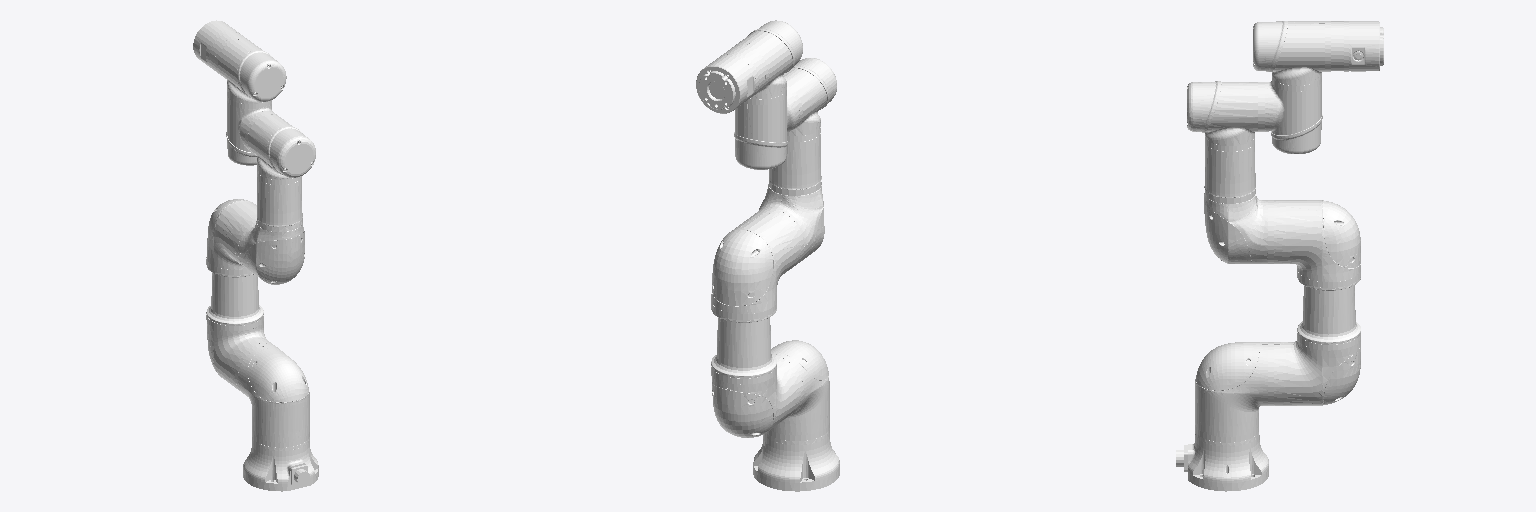
URDF robot description (s3_60_eco_2024):
<?xml version="1.0" encoding="utf-8"?>
<!-- Converted from the original ROS 1 package 'S3-60 Eco 2024' for ROS 2.
     Changes: robot name -> s3_60_eco_2024, package:// URIs updated,
     joint limits taken from the Codroid controller config (base.yaml / S3-60-PRO.yaml).
     Original URDF was created by SolidWorks to URDF Exporter! Originally created by Stephen Brawner (brawner@gmail.com) 
     Commit Version: 1.6.0-1-g15f4949  Build Version: 1.6.7594.29634
     For more information, please see http://wiki.ros.org/sw_urdf_exporter -->
<robot
  name="s3_60_eco_2024">
  <link
    name="base_link">
    <inertial>
      <origin
        xyz="0 -0 0"
        rpy="0 0 0" />
      <mass
        value="0.78541" />
      <inertia
        ixx="0.0010933"
        ixy="3.2853E-08"
        ixz="-1.7363E-07"
        iyy="0.0010241"
        iyz="1.1425E-06"
        izz="0.0014616" />
    </inertial>
    <visual>
      <origin
        xyz="0 0 0"
        rpy="0 0 0" />
      <geometry>
        <mesh
          filename="package://s3_60_eco_2024/meshes/base_link.STL" />
      </geometry>
      <material
        name="">
        <color
          rgba="1 1 1 1" />
      </material>
    </visual>
    <collision>
      <origin
        xyz="0 0 0"
        rpy="0 0 0" />
      <geometry>
        <mesh
          filename="package://s3_60_eco_2024/meshes/base_link.STL" />
      </geometry>
    </collision>
  </link>
  <link
    name="link1">
    <inertial>
      <origin
        xyz="0 0.01736 -0.03468"
        rpy="0 0 0" />
      <mass
        value="2.68" />
      <inertia
        ixx="0.0063062"
        ixy="1E-13"
        ixz="4E-14"
        iyy="0.0063062"
        iyz="-5.47E-12"
        izz="3.8604E-09" />
    </inertial>
    <visual>
      <origin
        xyz="0 0 0"
        rpy="0 0 0" />
      <geometry>
        <mesh
          filename="package://s3_60_eco_2024/meshes/link1.STL" />
      </geometry>
      <material
        name="">
        <color
          rgba="1 1 1 1" />
      </material>
    </visual>
    <collision>
      <origin
        xyz="0 0 0"
        rpy="0 0 0" />
      <geometry>
        <mesh
          filename="package://s3_60_eco_2024/meshes/link1.STL" />
      </geometry>
    </collision>
  </link>
  <joint
    name="joint1"
    type="revolute">
    <origin
      xyz="0 0 0.1612"
      rpy="0 0 0" />
    <parent
      link="base_link" />
    <child
      link="link1" />
    <axis
      xyz="0 0 -1" />
    <limit
      lower="-3.490659"
      upper="3.490659"
      effort="80"
      velocity="2.617994" />
  </joint>
  <link
    name="link2">
    <inertial>
      <origin
        xyz="0.164358816 -0.003811846 -0.036830158"
        rpy="0 0 0" />
      <mass
        value="4.91000729" />
      <inertia
        ixx="0.03174634313"
        ixy="-0.0133850739"
        ixz="0.02099061606"
        iyy="0.04209164764"
        iyz="0.01439168907"
        izz="0.0286995883" />
    </inertial>
    <visual>
      <origin
        xyz="0 0 0"
        rpy="0 0 0" />
      <geometry>
        <mesh
          filename="package://s3_60_eco_2024/meshes/link2.STL" />
      </geometry>
      <material
        name="">
        <color
          rgba="1 1 1 1" />
      </material>
    </visual>
    <collision>
      <origin
        xyz="0 0 0"
        rpy="0 0 0" />
      <geometry>
        <mesh
          filename="package://s3_60_eco_2024/meshes/link2.STL" />
      </geometry>
    </collision>
  </link>
  <joint
    name="joint2"
    type="revolute">
    <origin
      xyz="0 0.1625 0"
      rpy="-1.5708 -1.5708 -0" />
    <parent
      link="link1" />
    <child
      link="link2" />
    <axis
      xyz="0 0 1" />
    <limit
      lower="-3.490659"
      upper="3.490659"
      effort="100"
      velocity="2.617994" />
  </joint>
  <link
    name="link3">
    <inertial>
      <origin
        xyz="0.14259 0.0041909 0.019663"
        rpy="0 0 0" />
      <mass
        value="2.8189" />
      <inertia
        ixx="0.010113"
        ixy="-0.004051"
        ixz="0.013325"
        iyy="0.028438"
        iyz="0.0028144"
        izz="0.020036" />
    </inertial>
    <visual>
      <origin
        xyz="0 0 0"
        rpy="0 0 0" />
      <geometry>
        <mesh
          filename="package://s3_60_eco_2024/meshes/link3.STL" />
      </geometry>
      <material
        name="">
        <color
          rgba="1 1 1 1" />
      </material>
    </visual>
    <collision>
      <origin
        xyz="0 0 0"
        rpy="0 0 0" />
      <geometry>
        <mesh
          filename="package://s3_60_eco_2024/meshes/link3.STL" />
      </geometry>
    </collision>
  </link>
  <joint
    name="joint3"
    type="revolute">
    <origin
      xyz="0.249 0 -0.158"
      rpy="0 0 0" />
    <parent
      link="link2" />
    <child
      link="link3" />
    <axis
      xyz="0 0 1" />
    <limit
      lower="-2.844887"
      upper="2.844887"
      effort="80"
      velocity="2.617994" />
  </joint>
  <link
    name="link4">
    <inertial>
      <origin
        xyz="0.003938771 0.011270604 0.011220216"
        rpy="0 0 0" />
      <mass
        value="1.6405" />
      <inertia
        ixx="0.004198595"
        ixy="-0.001233426"
        ixz="-0.00171508"
        iyy="0.00383027"
        iyz="-0.00199017"
        izz="0.002494199" />
    </inertial>
    <visual>
      <origin
        xyz="0 0 0"
        rpy="0 0 0" />
      <geometry>
        <mesh
          filename="package://s3_60_eco_2024/meshes/link4.STL" />
      </geometry>
      <material
        name="">
        <color
          rgba="1 1 1 1" />
      </material>
    </visual>
    <collision>
      <origin
        xyz="0 0 0"
        rpy="0 0 0" />
      <geometry>
        <mesh
          filename="package://s3_60_eco_2024/meshes/link4.STL" />
      </geometry>
    </collision>
  </link>
  <joint
    name="joint4"
    type="revolute">
    <origin
      xyz="0.2208 0 0.106"
      rpy="3.1416 0 1.5708" />
    <parent
      link="link3" />
    <child
      link="link4" />
    <axis
      xyz="0 0 1" />
    <limit
      lower="-3.490659"
      upper="3.490659"
      effort="50"
      velocity="3.141593" />
  </joint>
  <link
    name="link5">
    <inertial>
      <origin
        xyz="-0.006333829 -0.011334075 0.005137465"
        rpy="0 0 0" />
      <mass
        value="1.64157902" />
      <inertia
        ixx="0.00011746"
        ixy="0.000351853"
        ixz="-0.000369981"
        iyy="0.0022811"
        iyz="5.8655E-05"
        izz="0.002275203" />
    </inertial>
    <visual>
      <origin
        xyz="0 0 0"
        rpy="0 0 0" />
      <geometry>
        <mesh
          filename="package://s3_60_eco_2024/meshes/link5.STL" />
      </geometry>
      <material
        name="">
        <color
          rgba="1 1 1 1" />
      </material>
    </visual>
    <collision>
      <origin
        xyz="0 0 0"
        rpy="0 0 0" />
      <geometry>
        <mesh
          filename="package://s3_60_eco_2024/meshes/link5.STL" />
      </geometry>
    </collision>
  </link>
  <joint
    name="joint5"
    type="revolute">
    <origin
      xyz="0 0.106 0"
      rpy="1.5708 0 0" />
    <parent
      link="link4" />
    <child
      link="link5" />
    <axis
      xyz="0 0 -1" />
    <limit
      lower="-3.490659"
      upper="3.490659"
      effort="50"
      velocity="3.141593" />
  </joint>
  <link
    name="link6">
    <inertial>
      <origin
        xyz="0.010096671 -0.013004453 -0.030448264"
        rpy="0 0 0" />
      <mass
        value="0.53289427" />
      <inertia
        ixx="0.000181326"
        ixy="0.000407975"
        ixz="-3.9175E-05"
        iyy="0.000928056"
        iyz="1.7252E-05"
        izz="0.001106067" />
    </inertial>
    <visual>
      <origin
        xyz="0 0 0"
        rpy="0 0 0" />
      <geometry>
        <mesh
          filename="package://s3_60_eco_2024/meshes/link6.STL" />
      </geometry>
      <material
        name="">
        <color
          rgba="1 1 1 1" />
      </material>
    </visual>
    <collision>
      <origin
        xyz="0 0 0"
        rpy="0 0 0" />
      <geometry>
        <mesh
          filename="package://s3_60_eco_2024/meshes/link6.STL" />
      </geometry>
    </collision>
  </link>
  <joint
    name="joint6"
    type="revolute">
    <origin
      xyz="0 -0.1385 -0.00039444"
      rpy="1.5708 0 0" />
    <parent
      link="link5" />
    <child
      link="link6" />
    <axis
      xyz="0 0 -1" />
    <limit
      lower="-3.490659"
      upper="3.490659"
      effort="50"
      velocity="3.141593" />
  </joint>
</robot>

--- Facts derived from the render (not from the file) ---
Views: 3 orthographic renders of the robot side by side, from view 1: azimuth 30°, elevation 25°; view 2: azimuth 150°, elevation 25°; view 3: azimuth 270°, elevation 25°.
Model s3_60_eco_2024 with 7 links and 6 joints (6 revolute), rooted at base_link, posed all joints at 0.
Visible links, largest first — view 1: link3, link2, link1, link5, base_link, link4, link6; view 2: link2, link3, base_link, link4, link1, link6, link5; view 3: link2, link3, link1, link5, base_link, link4, link6.
Boxes of the visible links, x1,y1,x2,y2 form: link3: [235, 112, 315, 284]; link2: [206, 199, 277, 393]; link1: [238, 346, 309, 447]; link5: [215, 36, 286, 103]; base_link: [243, 437, 318, 491]; link4: [226, 96, 273, 165]; link6: [193, 20, 243, 73]; link2: [711, 211, 803, 437]; link3: [755, 58, 836, 265]; base_link: [753, 428, 839, 491]; link4: [734, 90, 799, 169]; link1: [767, 340, 829, 440]; link6: [696, 48, 764, 113]; link5: [731, 20, 802, 98]; link2: [1268, 200, 1360, 405]; link3: [1187, 81, 1273, 263]; link1: [1195, 342, 1267, 442]; link5: [1253, 21, 1330, 85]; base_link: [1176, 430, 1268, 491]; link4: [1265, 77, 1322, 153]; link6: [1331, 21, 1383, 71].
Size in the robot's own frame: 0.1342 by 0.3301 by 0.7933 metres.
Meshes: 7 distinct files referenced, 7 mesh visuals loaded (7 binary STL).
